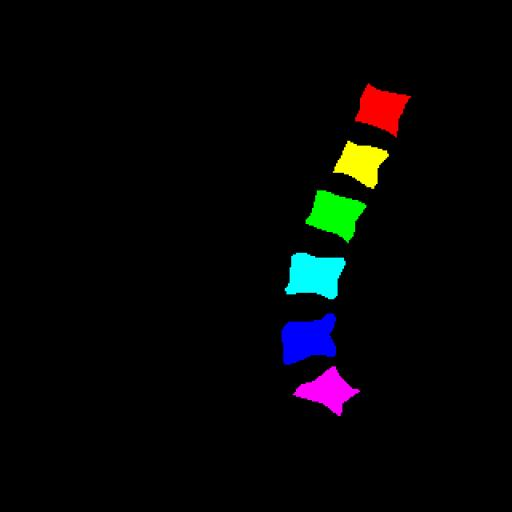L1: (355, 83, 411, 136)
L2: (333, 141, 388, 188)
L3: (306, 190, 366, 242)
L4: (285, 253, 345, 299)
L5: (282, 314, 336, 365)
S1: (293, 366, 360, 416)
